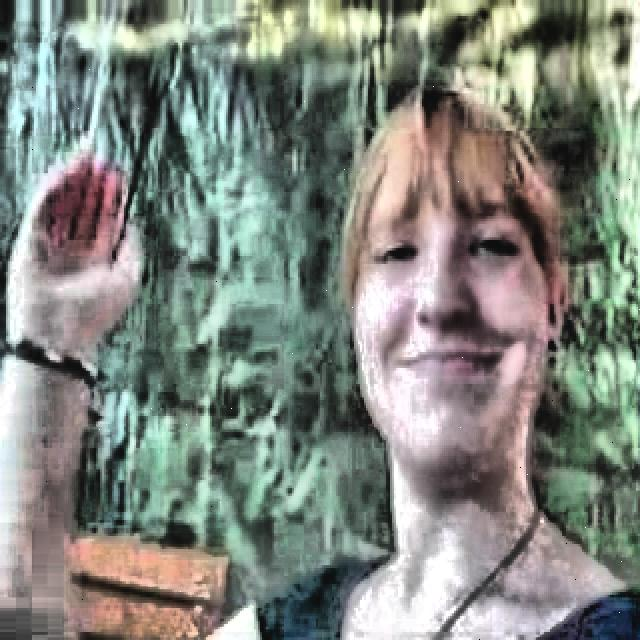T: (9, 95, 637, 632)
